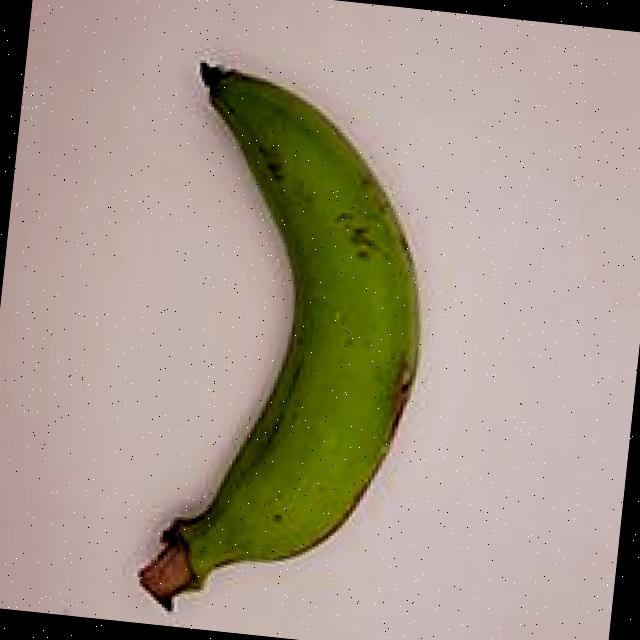Raw: (61, 21, 471, 640)
